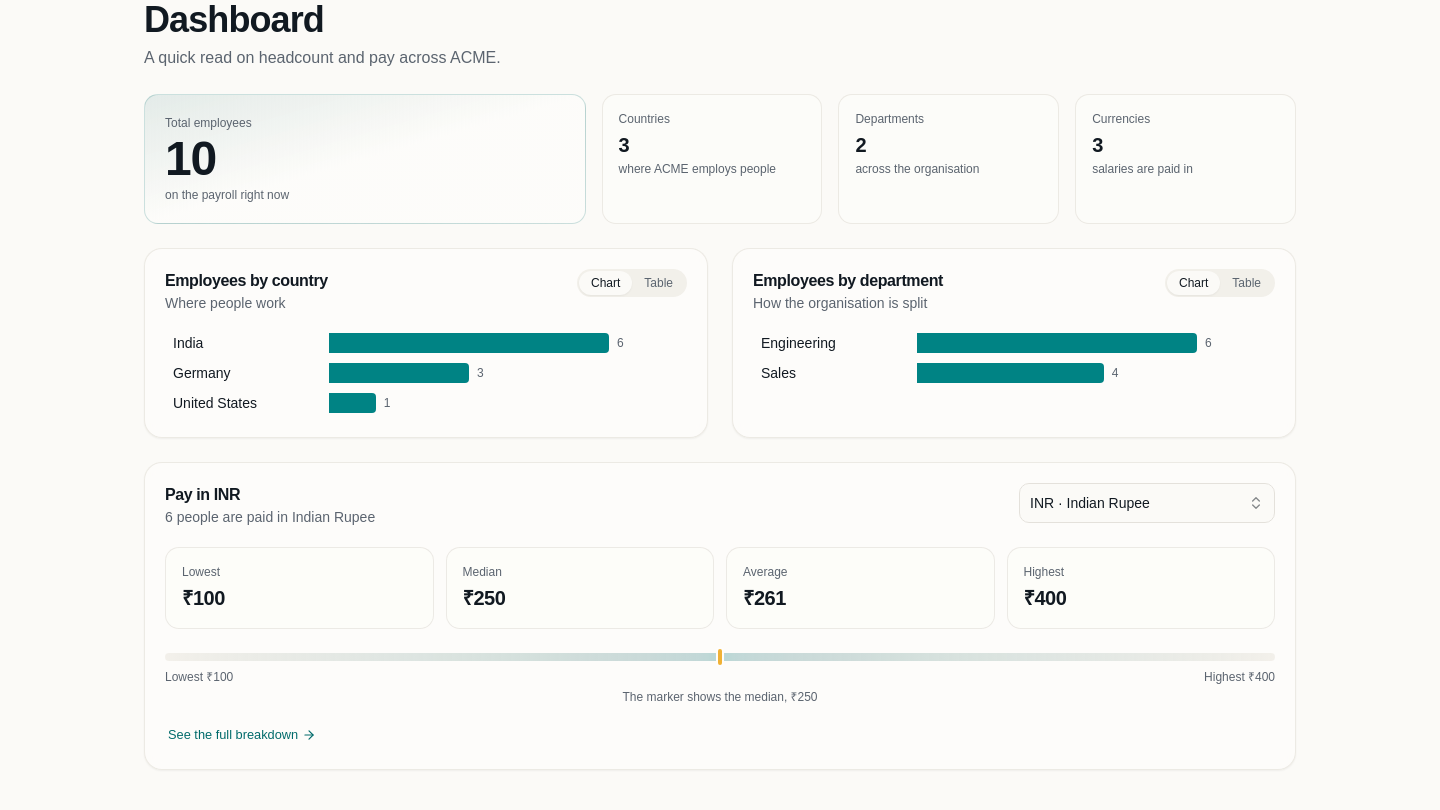
Scenario: pay by currency › choosing another currency switches every figure and keeps currencies apart
Expected: the element "Pay in INR" is shown, [144,462,1296,770]
Click the dropdown named "Currency": coordinates (1147, 503) [1019,483,1275,523]
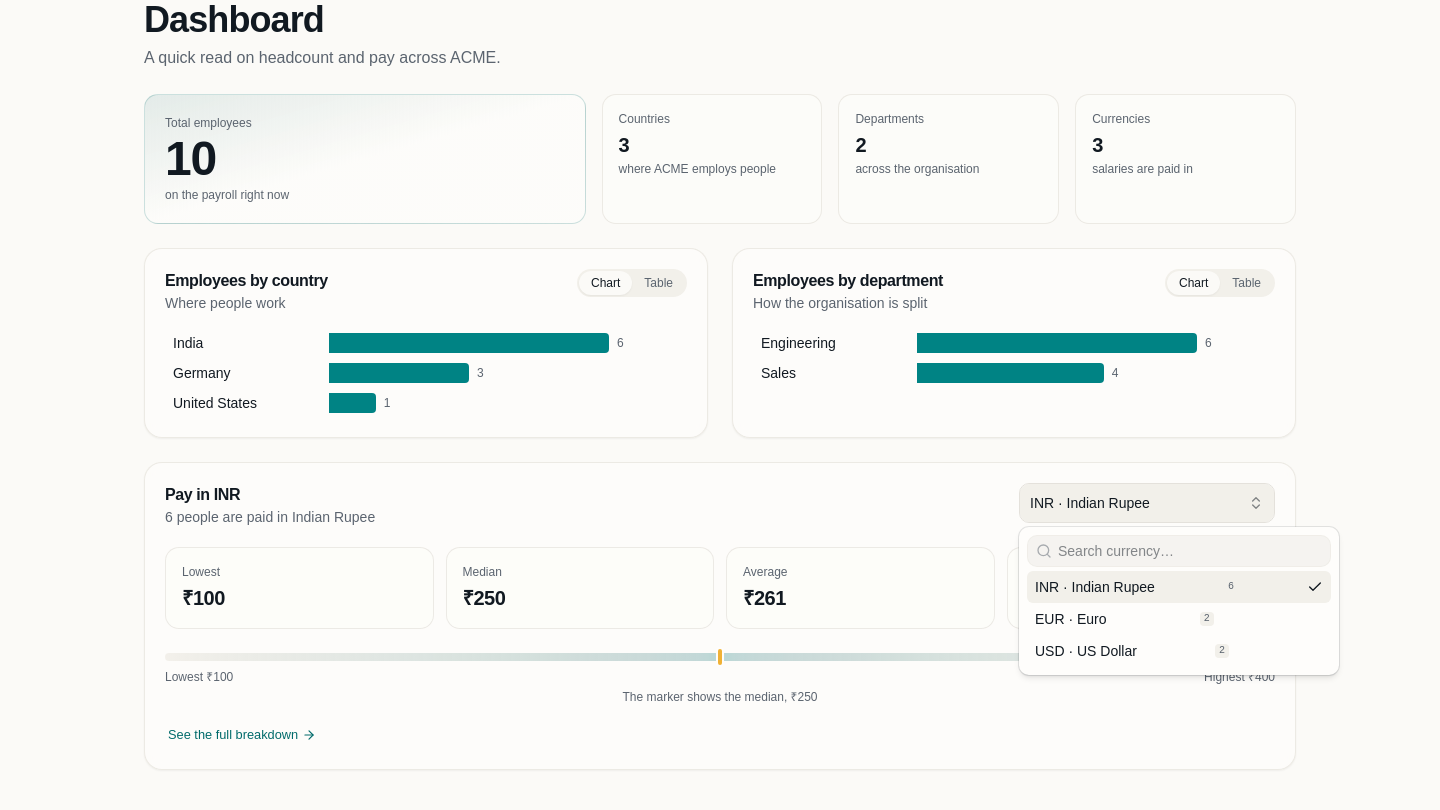
Click the option "EUR · Euro 2": coordinates (1071, 619) [1035,611,1214,627]
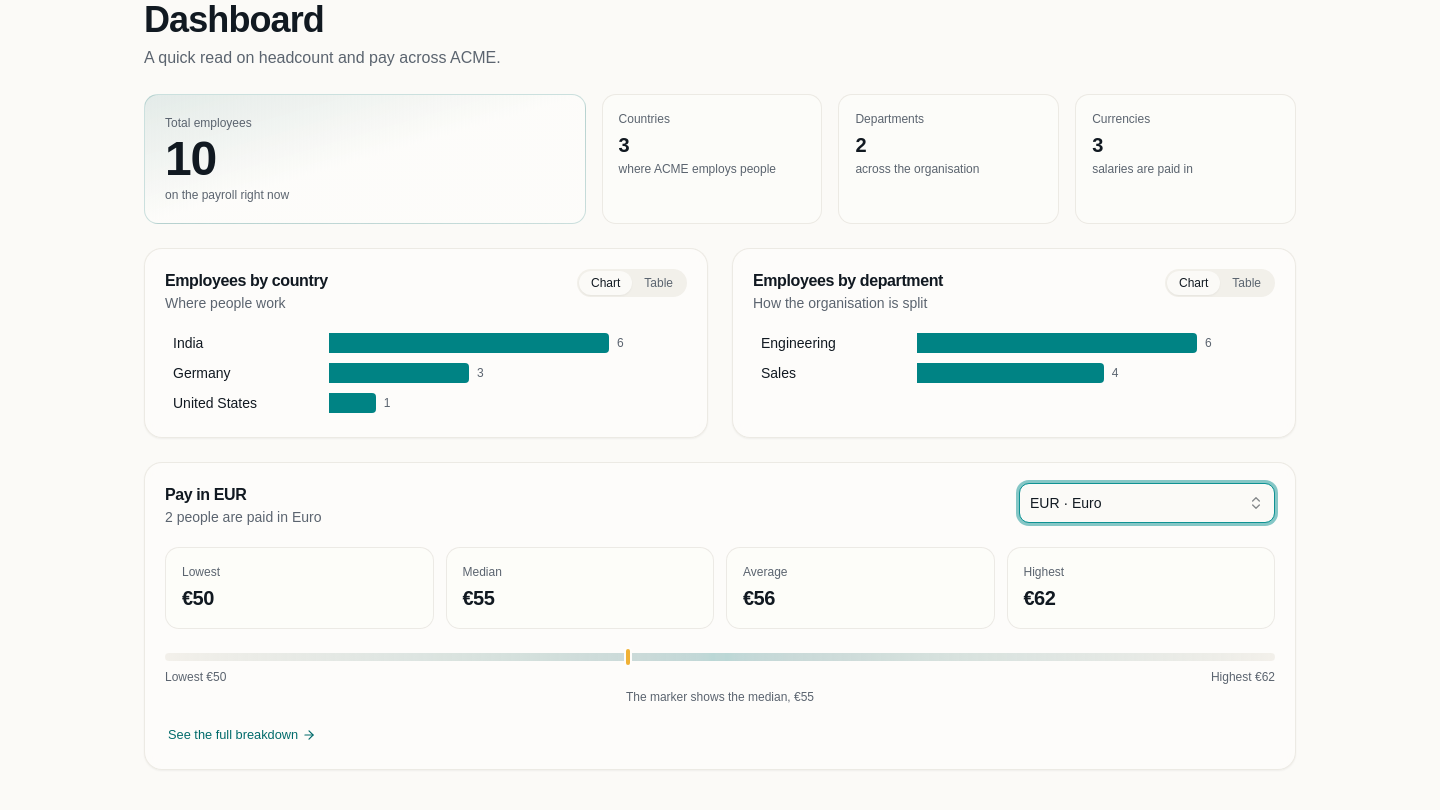
Now the text "€50" is shown, box [182,587,214,609]
Now the text "€55" is shown, box [462,587,494,609]
Now the text "€56" is shown, box [743,587,775,609]
